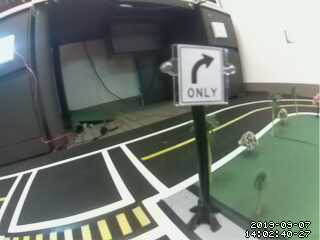Right_only_sign: (178, 49, 221, 101)
